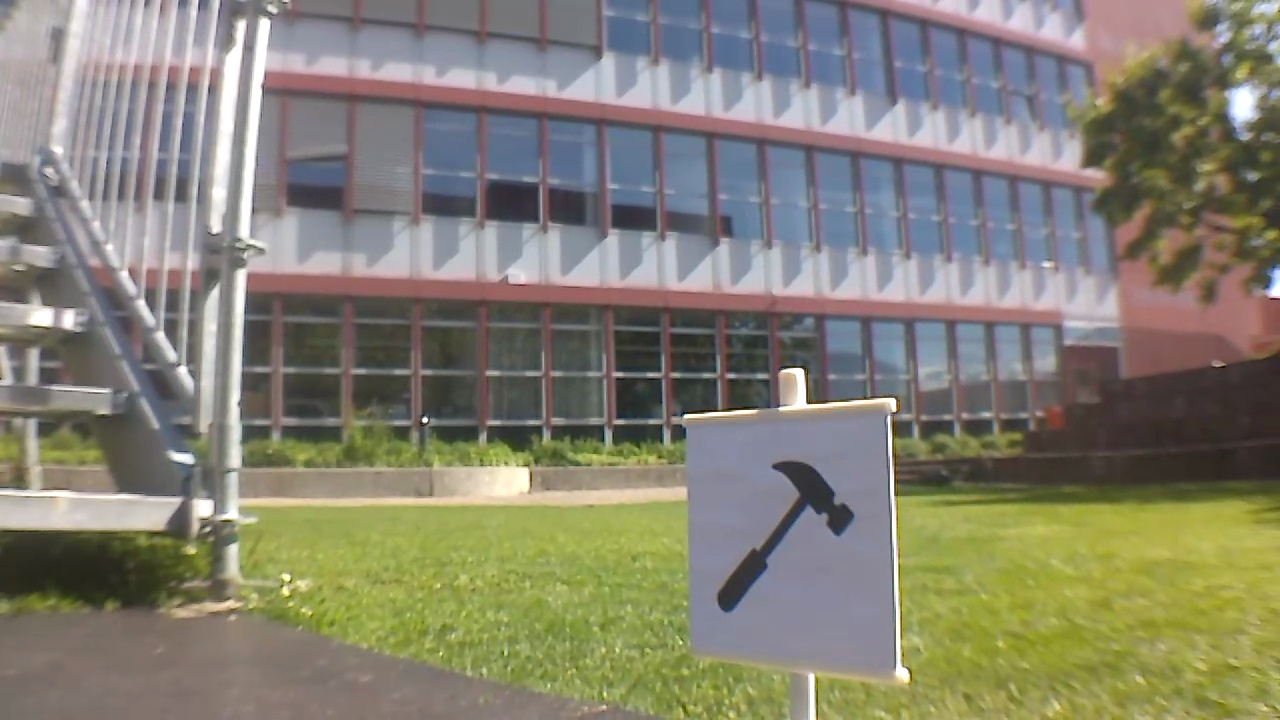hammer: (710, 454, 857, 614)
